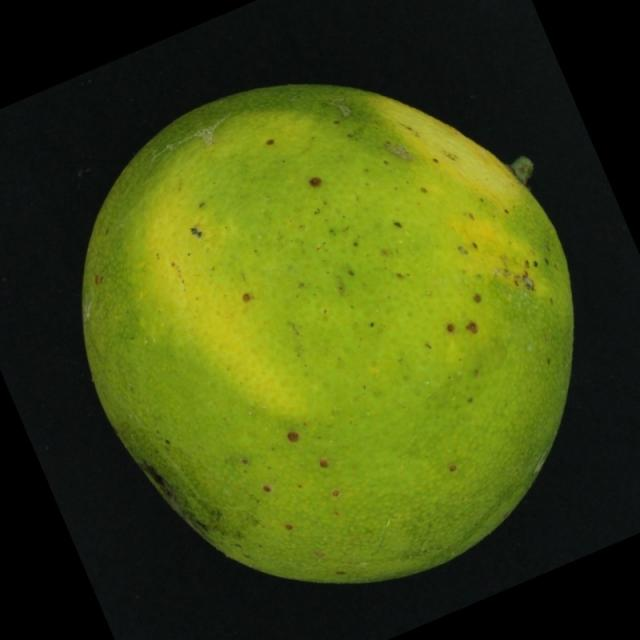grenning: (54, 72, 586, 601)
